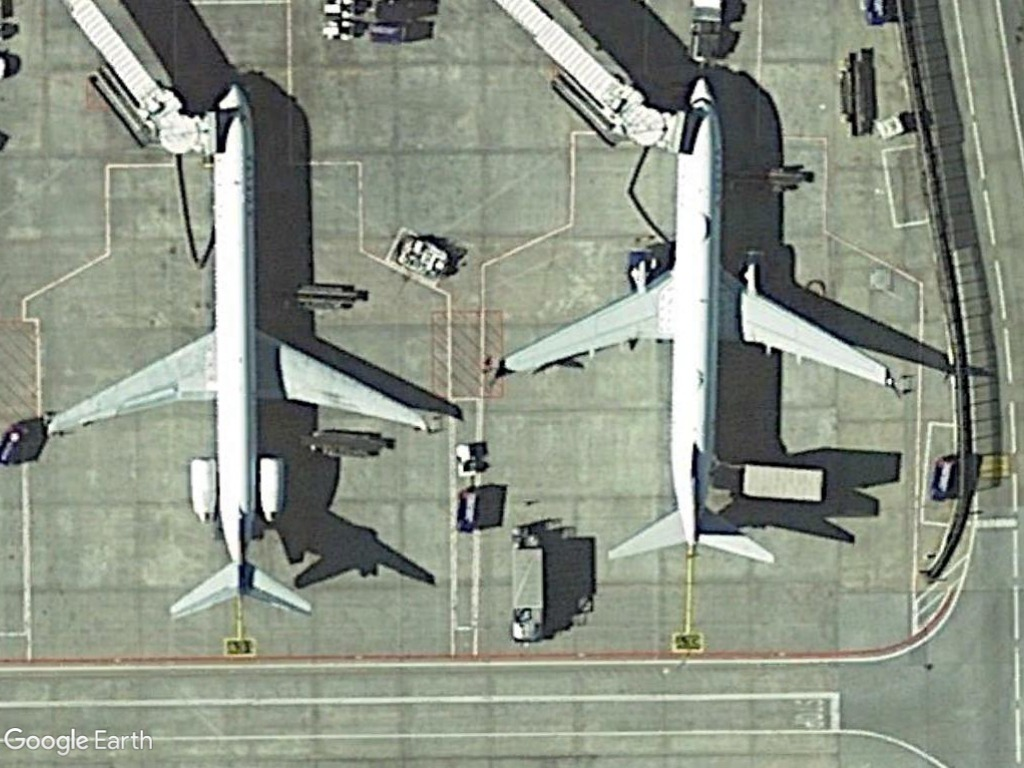airliner: (496, 73, 898, 571)
chartered: (48, 76, 446, 626)
